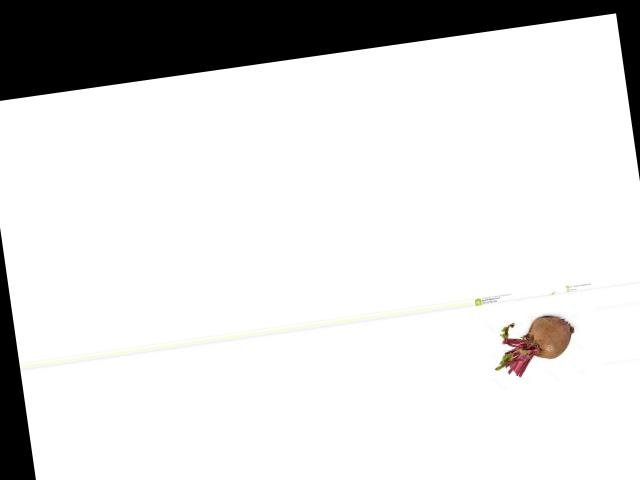beet: (489, 312, 580, 379)
